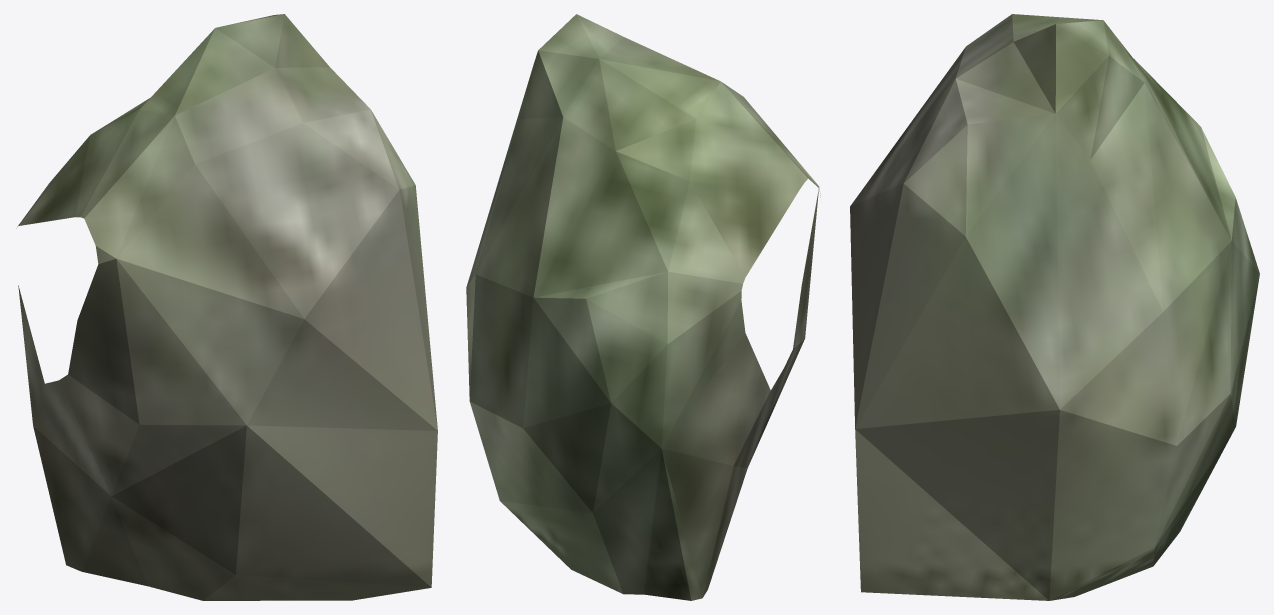
The picture shows the model from 3 angles, left to right: view 1: azimuth 30°, elevation 25°; view 2: azimuth 150°, elevation 25°; view 3: azimuth 270°, elevation 25°; orthographic projection. The views are drawn at different scales.
Size of the model in its own units: 0.6907 by 1.06 by 0.6995.
Materials: 1 (1 with a texture image).
